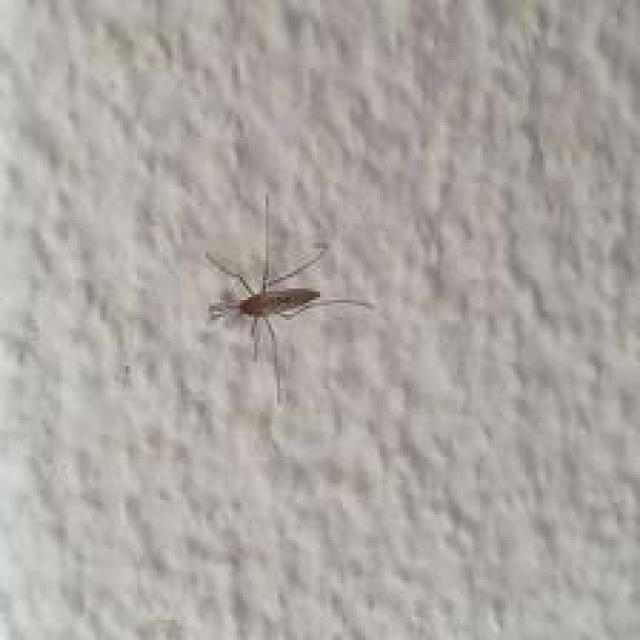Culex: (204, 190, 376, 404)
